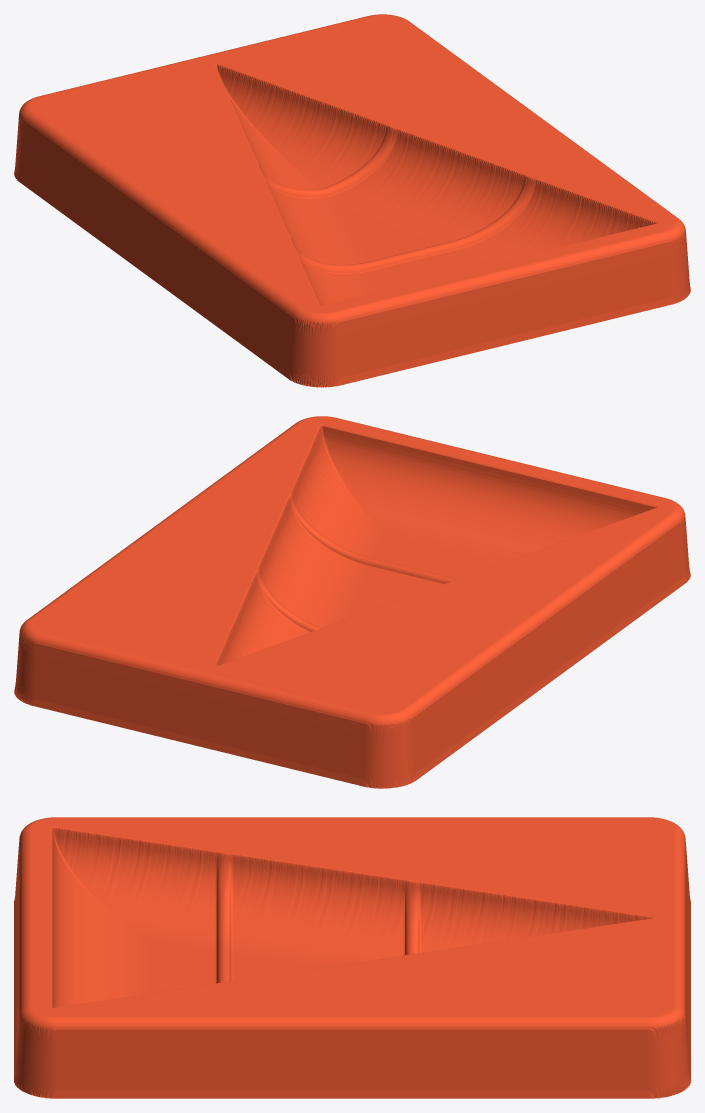
File: mold.glb
3 views of the same model, one above another, from view 1: azimuth 30°, elevation 25°; view 2: azimuth 150°, elevation 25°; view 3: azimuth 270°, elevation 25° (orthographic). The views are drawn at different scales.
Parts seen in each view (by area): view 1: geometry_0; view 2: geometry_0; view 3: geometry_0.
Boxes of the visible parts, <box> form: geometry_0: <box>14,14,690,387</box>; geometry_0: <box>14,416,690,788</box>; geometry_0: <box>14,817,690,1098</box>.
Bounding box in the file's own units: 0.1067 × 0.0175 × 0.1435.
